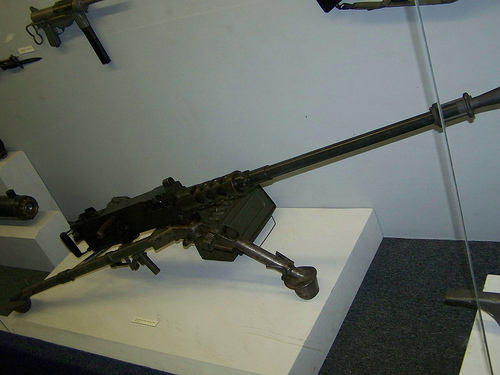rifle: (9, 81, 498, 326)
